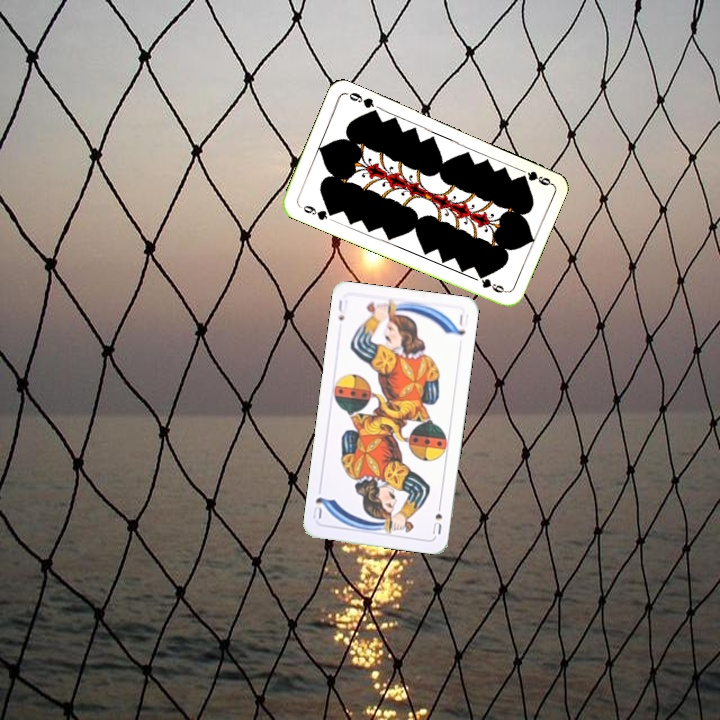G9: (295, 201, 336, 223), (523, 167, 554, 188)
SU: (428, 498, 445, 537), (334, 295, 350, 323)
